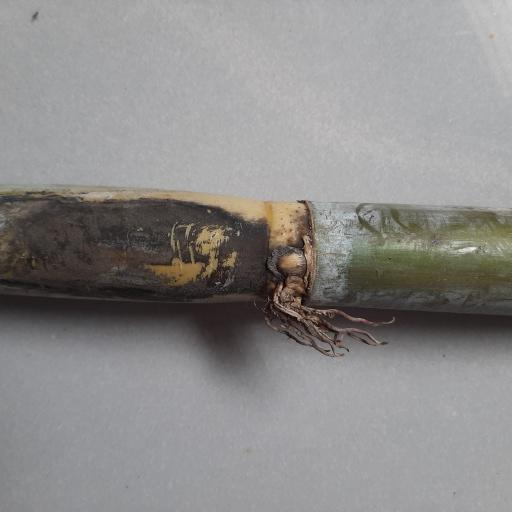Bud: (275, 249, 308, 277)
